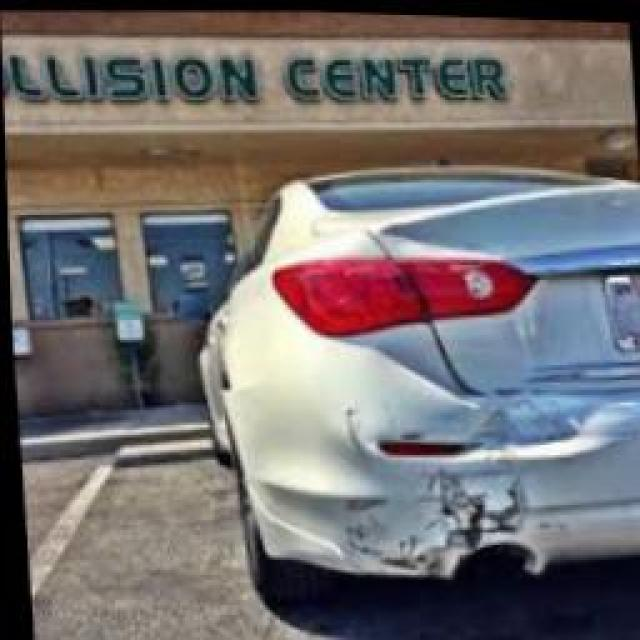Bumper: (298, 370, 639, 578)
Dickey: (380, 205, 639, 393)
